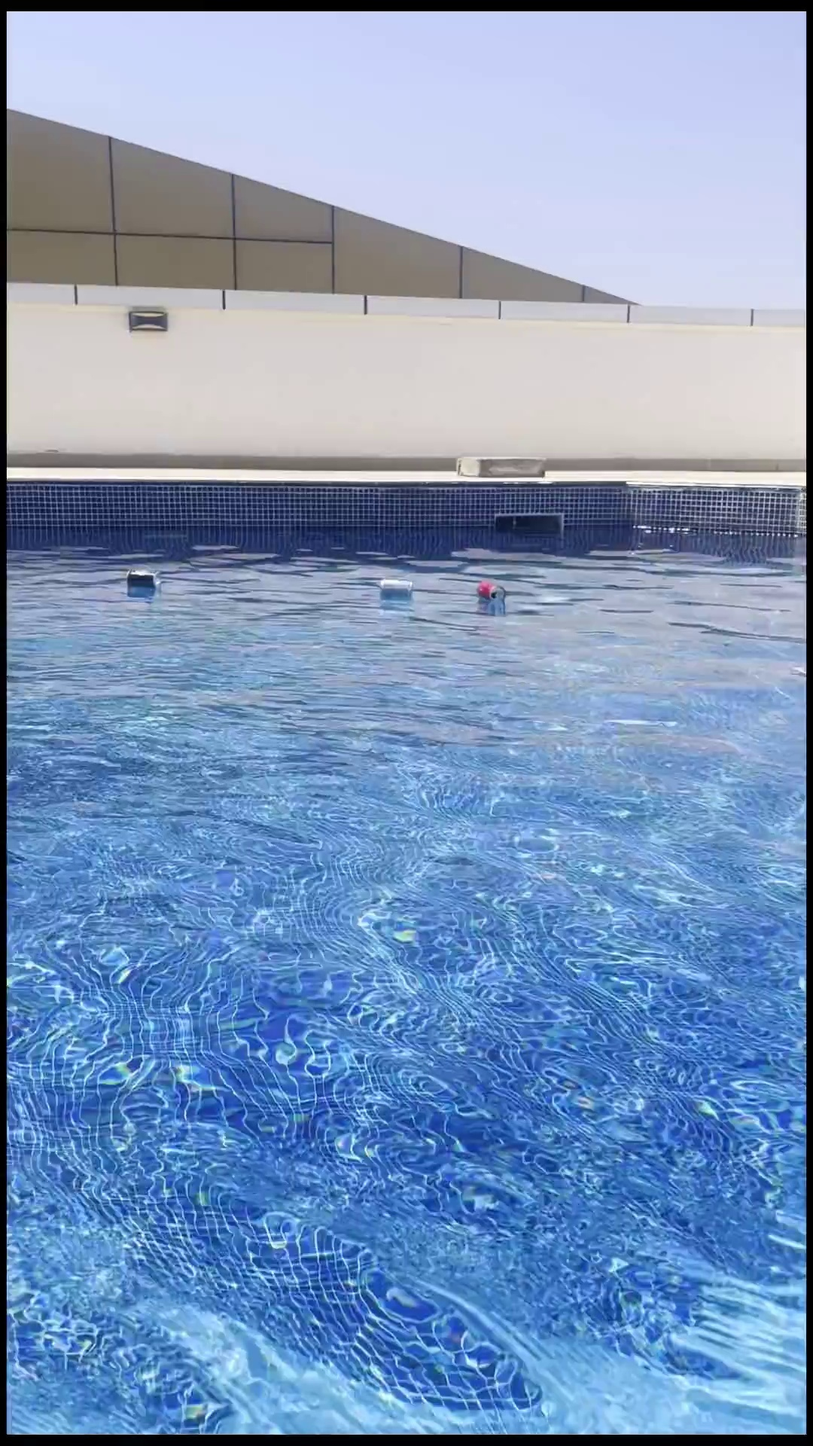debris: (119, 554, 160, 609), (470, 566, 507, 618), (377, 572, 413, 606)
